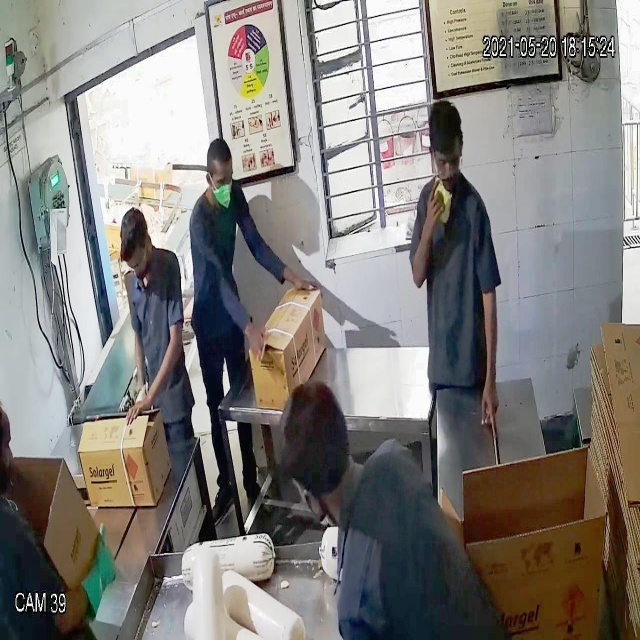Gafas: (430, 143, 464, 188)
